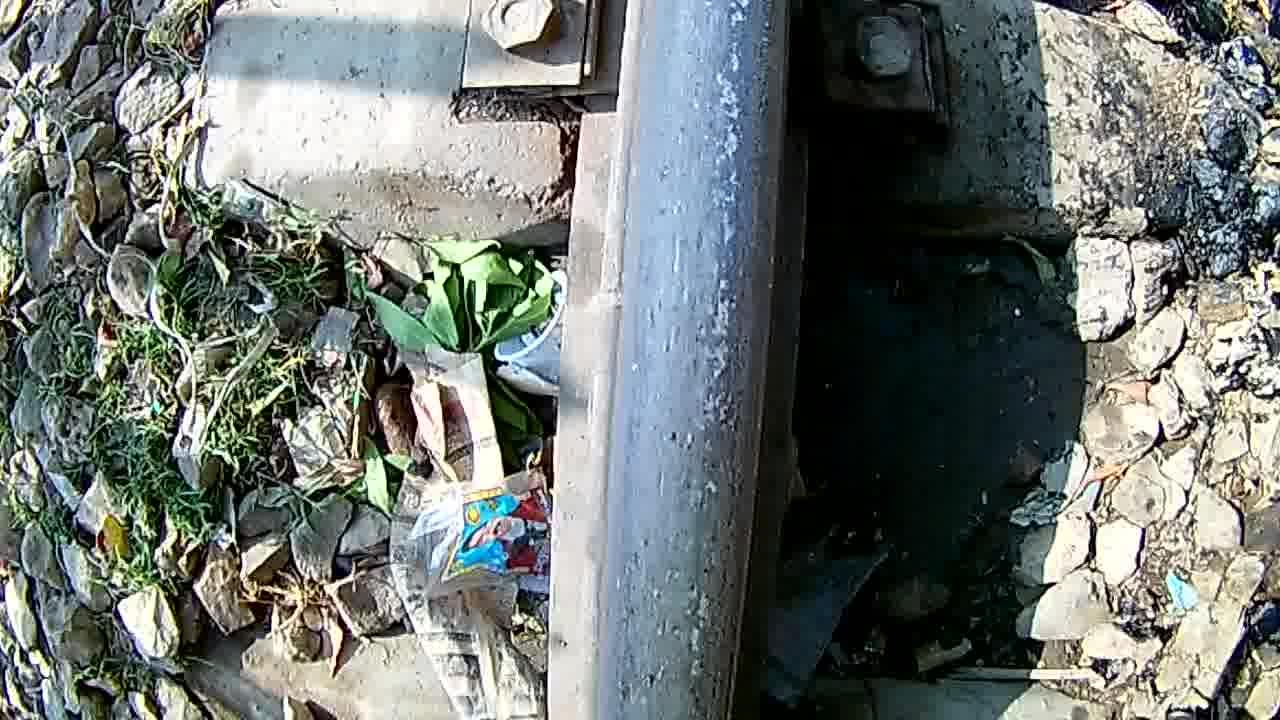clip_missing: (610, 0, 794, 720)
